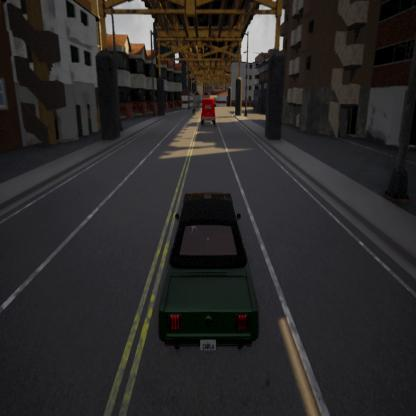Cars: (159, 189, 259, 352), (201, 96, 217, 127), (190, 102, 196, 114)
